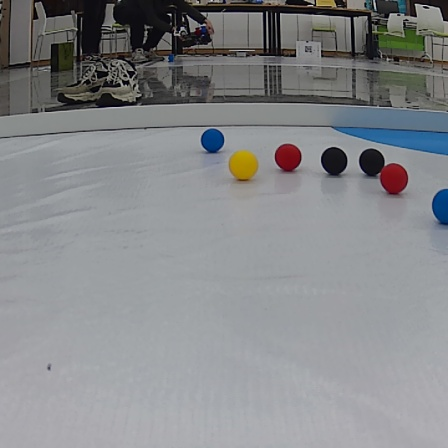black: (321, 148, 350, 176), (357, 144, 384, 174)
blue: (198, 127, 229, 153), (433, 185, 448, 225)
blue_base: (329, 120, 448, 156)
red: (382, 162, 410, 196), (277, 142, 304, 172)
yellow: (226, 148, 259, 183)
